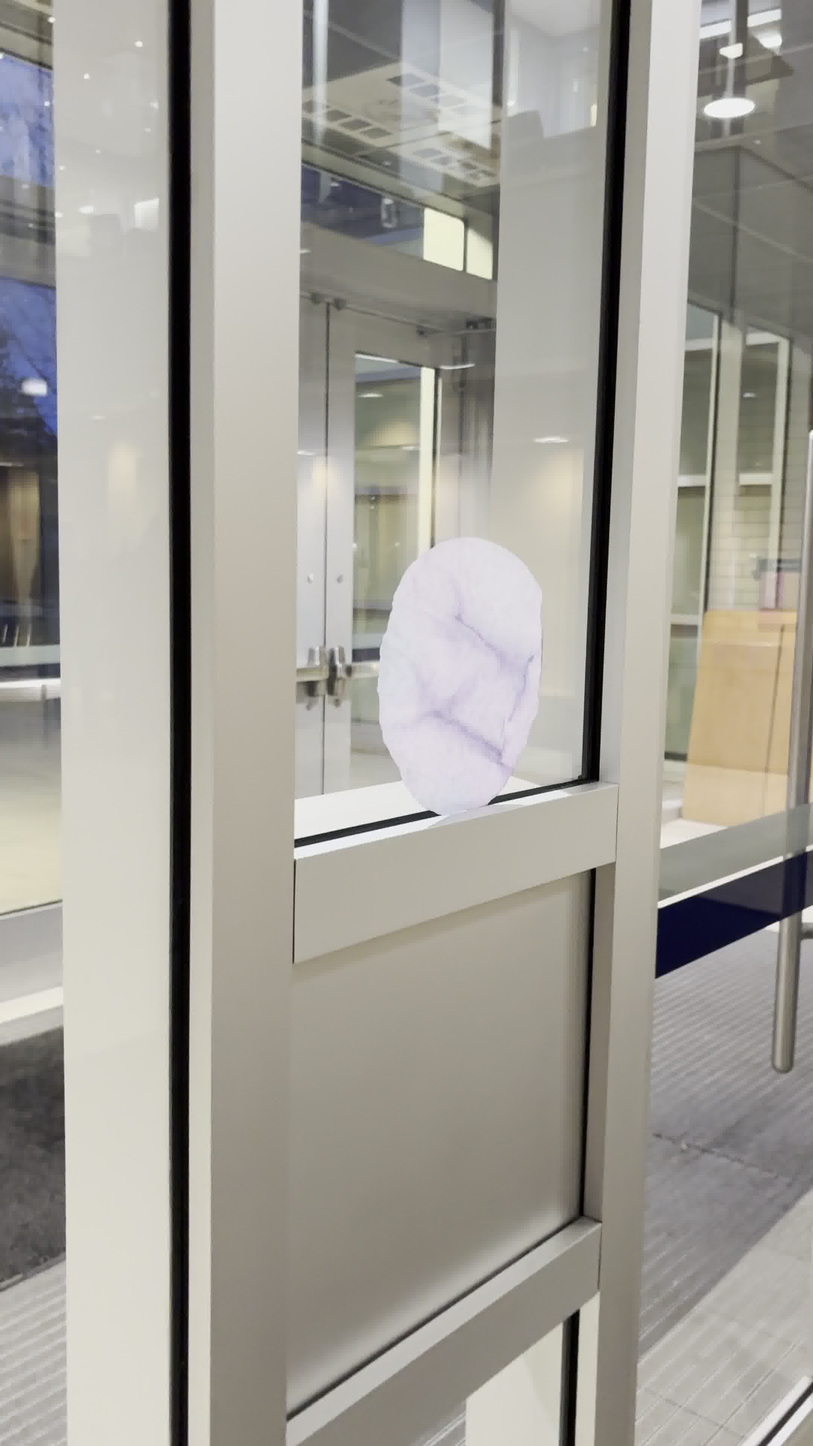Target: (376, 536, 543, 814)
